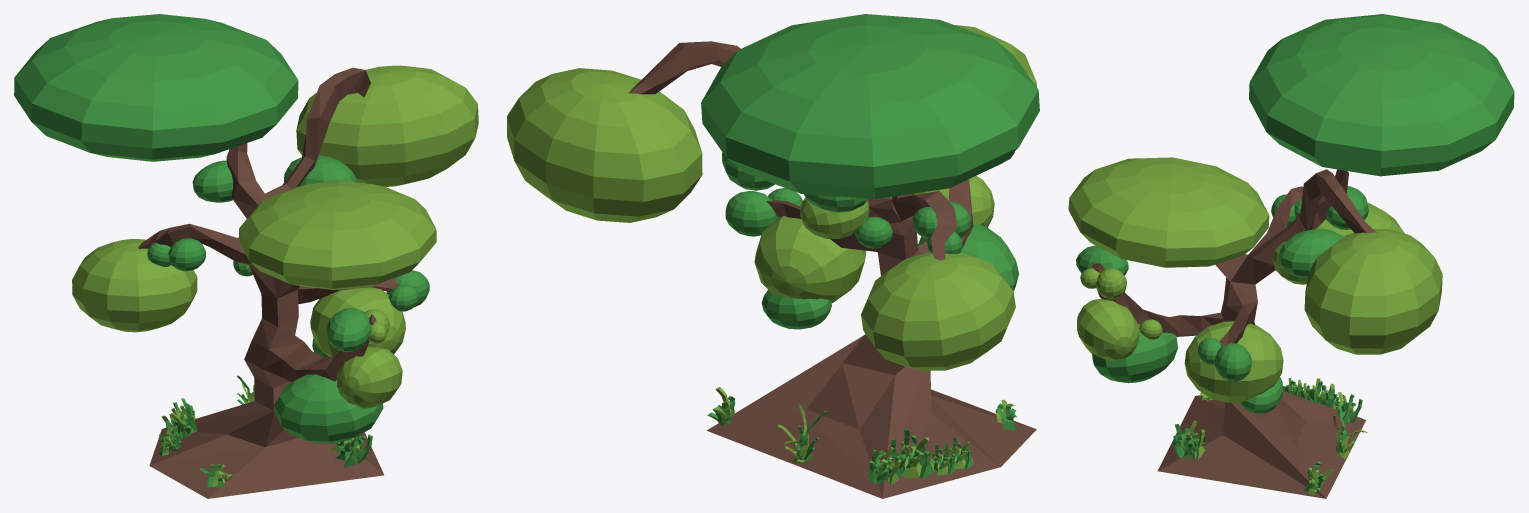
Rendered from modelDraco.gltf.
The picture shows the model from 3 angles, left to right: view 1: azimuth 30°, elevation 25°; view 2: azimuth 150°, elevation 25°; view 3: azimuth 270°, elevation 25°; orthographic projection. The views are drawn at different scales.
Visible parts, largest first — view 1: node_MeshObject-1111887872-PolyPaper10, node_MeshObject551491840-PolyPaper10; view 2: node_MeshObject551491840-PolyPaper10, node_MeshObject-1111887872-PolyPaper10; view 3: node_MeshObject-1111887872-PolyPaper10, node_MeshObject551491840-PolyPaper10.
Part boxes in pixels (box(x1,y1,x2,y2)): node_MeshObject-1111887872-PolyPaper10: box(14, 14, 436, 467); node_MeshObject551491840-PolyPaper10: box(138, 65, 478, 498); node_MeshObject551491840-PolyPaper10: box(507, 41, 1036, 498); node_MeshObject-1111887872-PolyPaper10: box(701, 14, 1039, 485); node_MeshObject-1111887872-PolyPaper10: box(1068, 14, 1514, 459); node_MeshObject551491840-PolyPaper10: box(1076, 169, 1442, 498).
Bounding box in the file's own units: 0.972 × 0.8317 × 0.8944.
